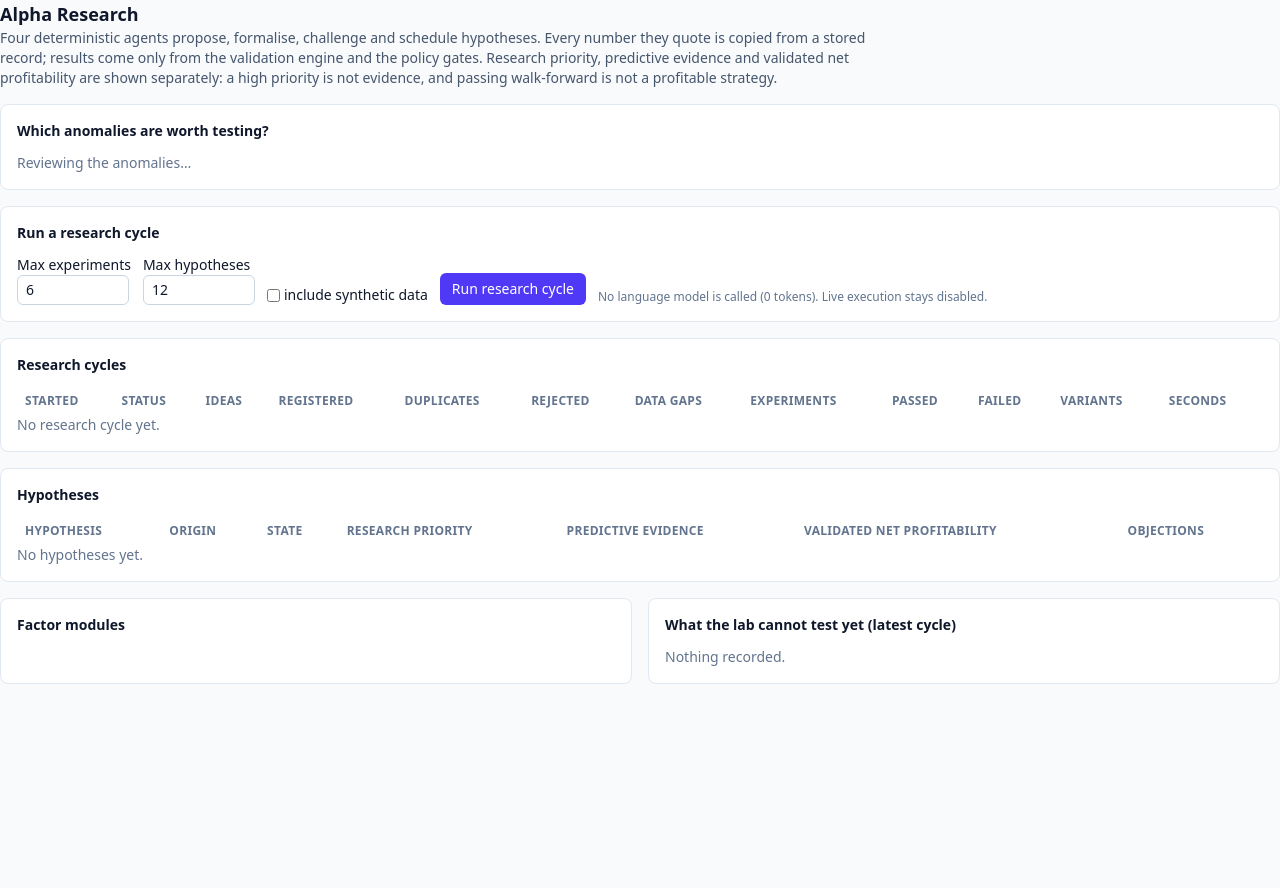
Scenario: Alpha Research › launches a bounded research cycle
Replace the text in the number field labelled "Max experiments" with "2": coordinates (73, 290) [17,275,129,305]
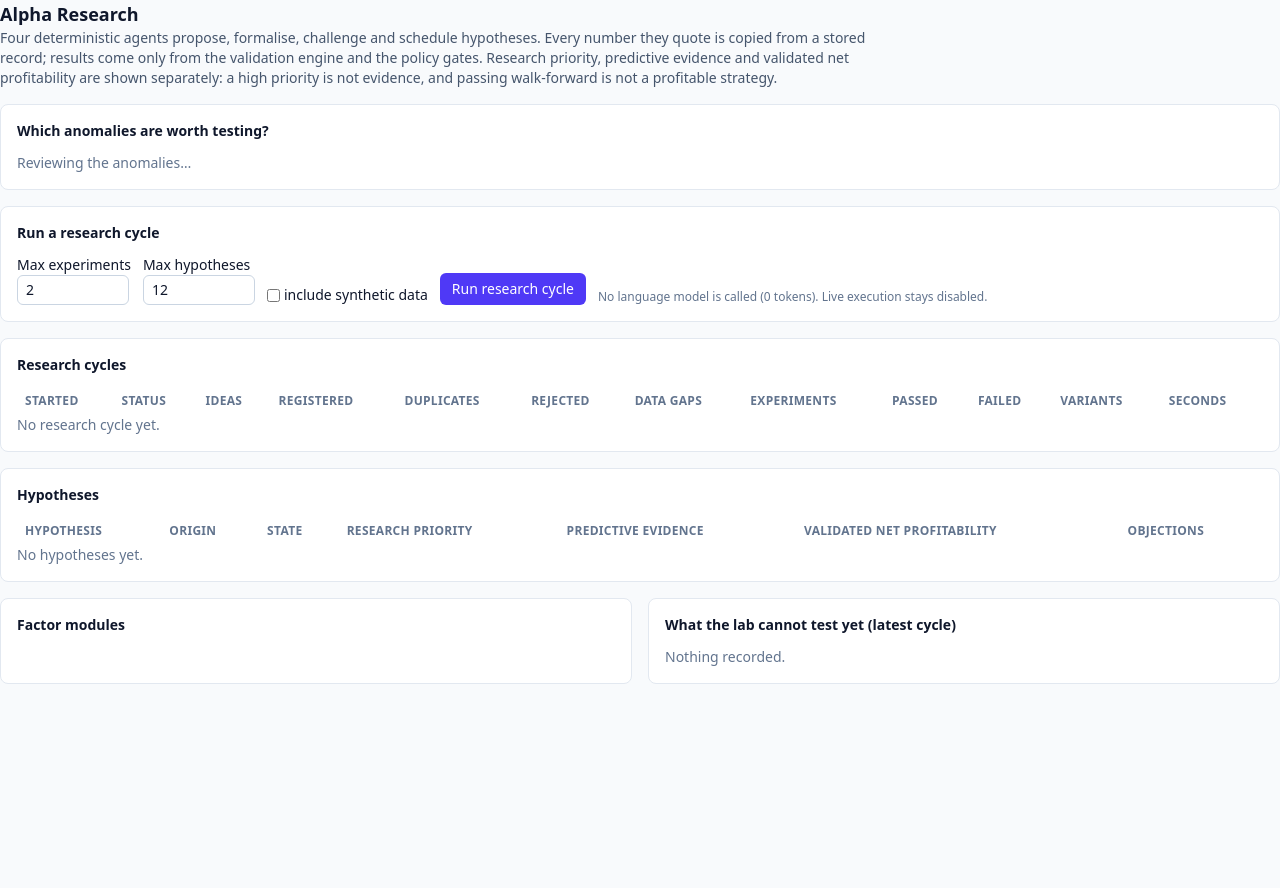
Click the button "Run research cycle": coordinates (513, 289) [440,273,586,305]
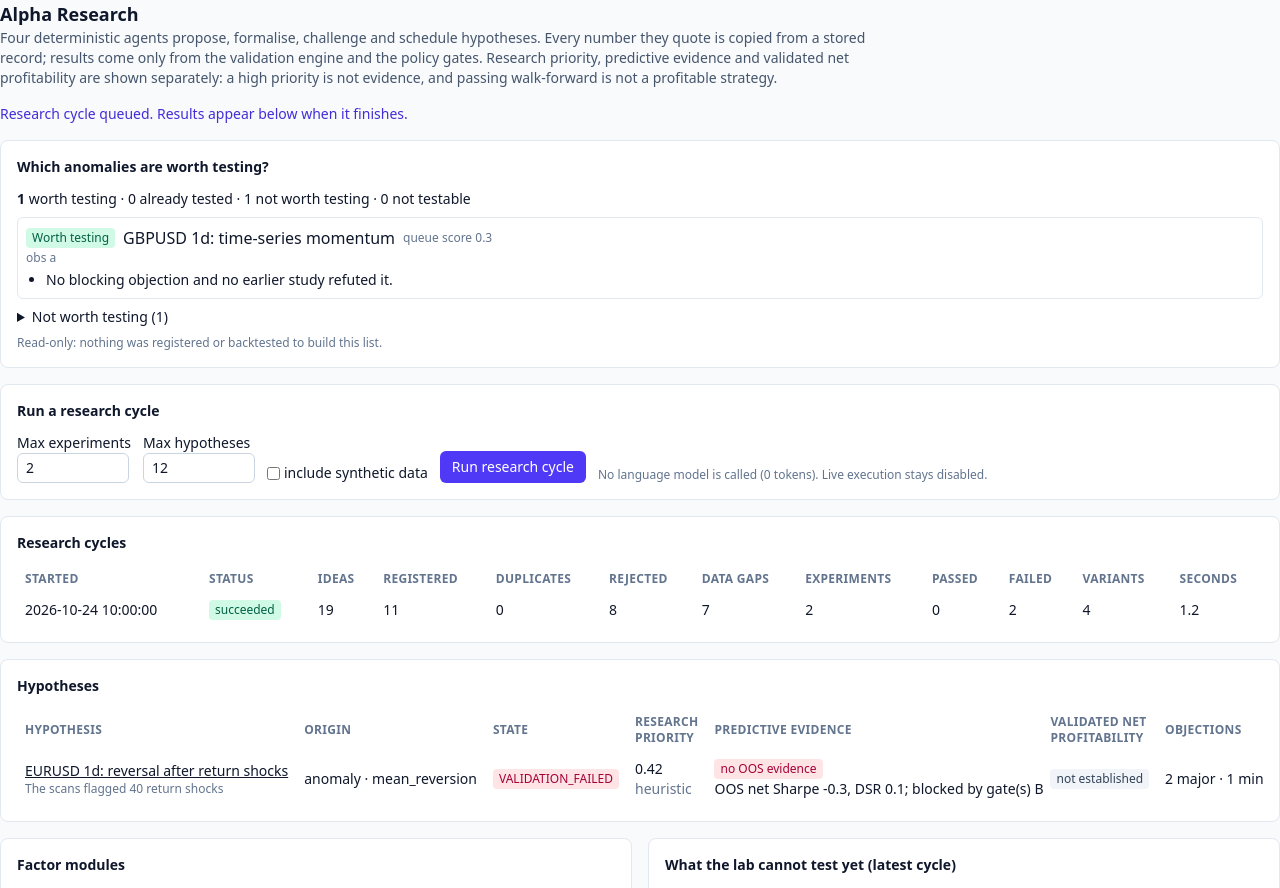
Check: the text "Research cycle queued" is shown, box [0,104,408,123]
